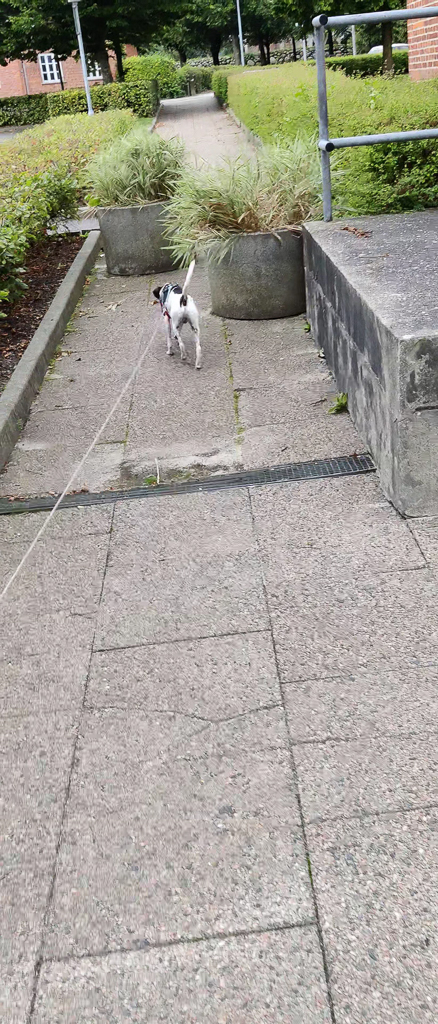Dog: (144, 255, 214, 377)
